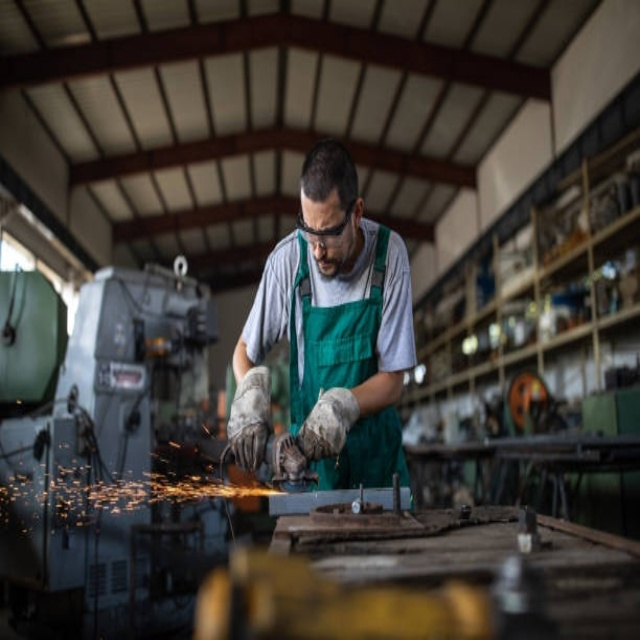Gafas: (298, 199, 357, 238)
Guantes: (223, 358, 275, 467), (293, 381, 364, 460)
Sin_mascara: (312, 249, 338, 279)
